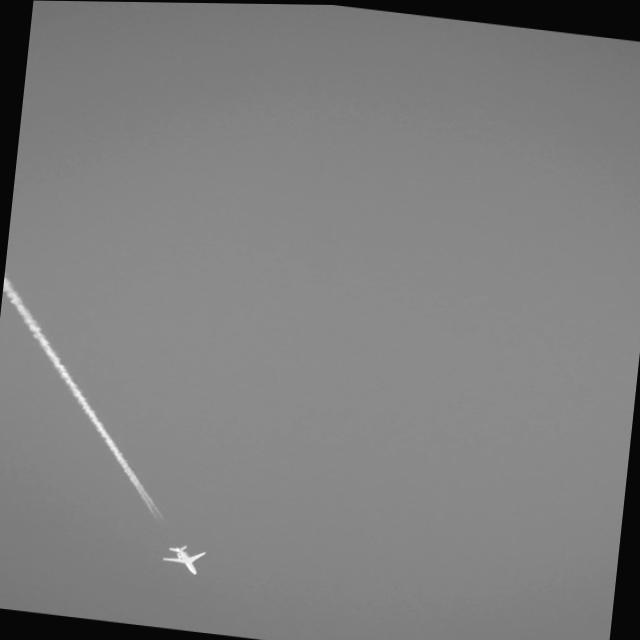aeroplane: (154, 540, 214, 577)
